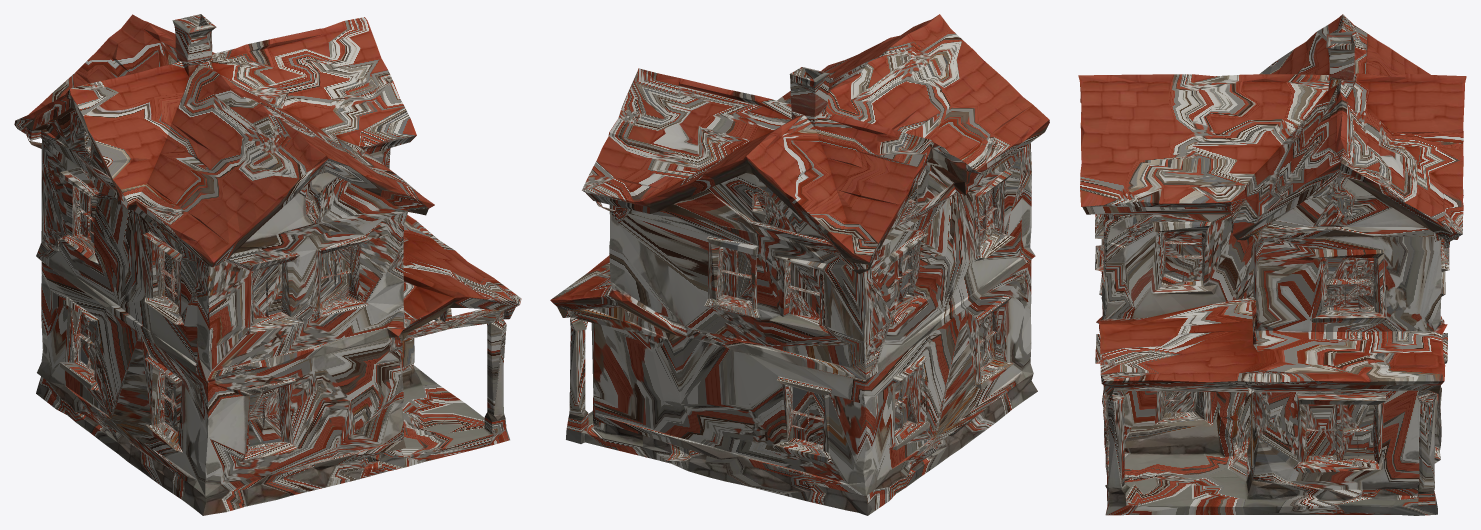
The model's file is villa_western_low_original.glb.
3 renders of one model, left to right at view 1: azimuth 30°, elevation 25°; view 2: azimuth 150°, elevation 25°; view 3: azimuth 270°, elevation 25°, orthographic.
Visible parts, largest first — view 1: villa; view 2: villa; view 3: villa.
Boxes of the visible parts, bbox=[...] form: villa: bbox=[14, 14, 521, 515]; villa: bbox=[550, 14, 1049, 515]; villa: bbox=[1078, 14, 1466, 515].
Size of the model in its own units: 6.87 by 7.5 by 6.9.
1 material, 1 textured.
